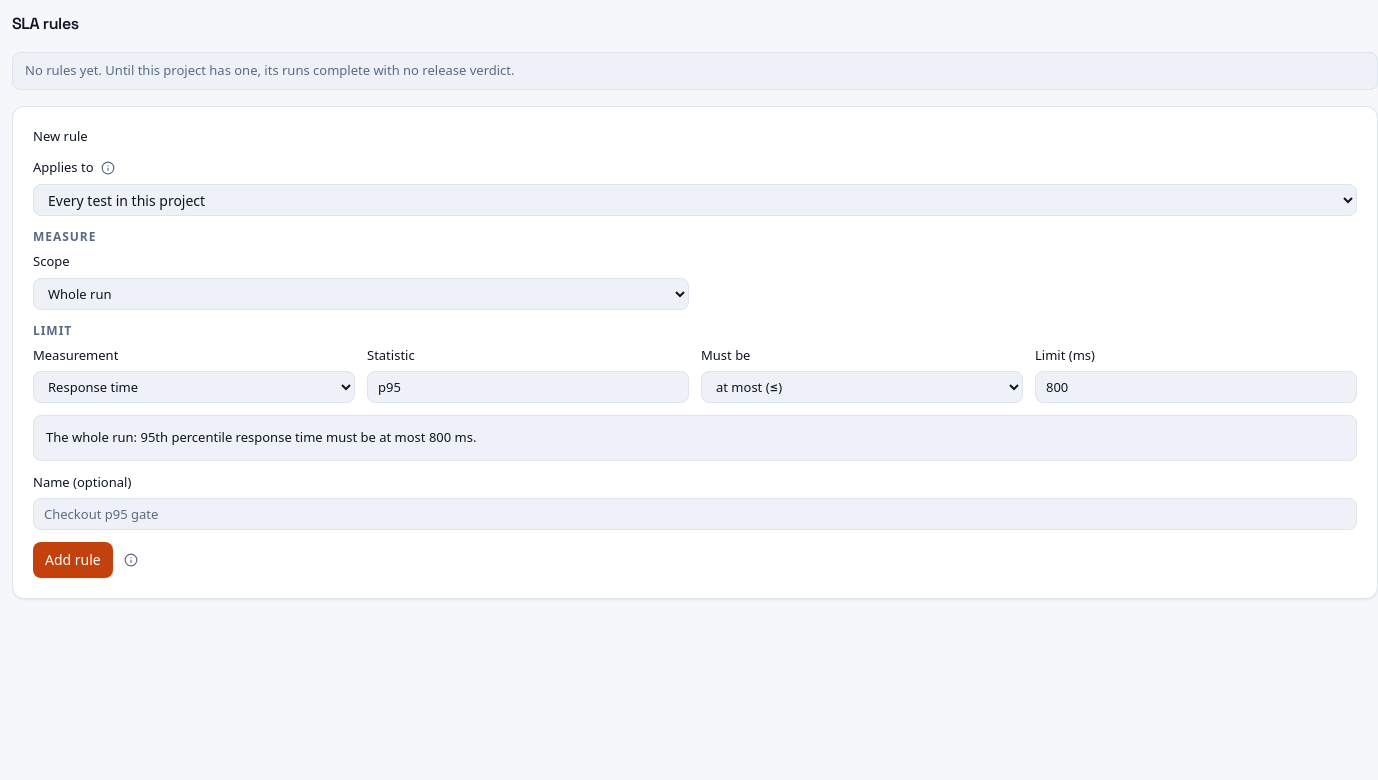
Test case: ProjectRules — authoring › refuses a blank threshold rather than reading it as zero
Clear the field labelled "Limit (ms)" at (1196, 387), box x1=1035 y1=371 x2=1357 y2=403
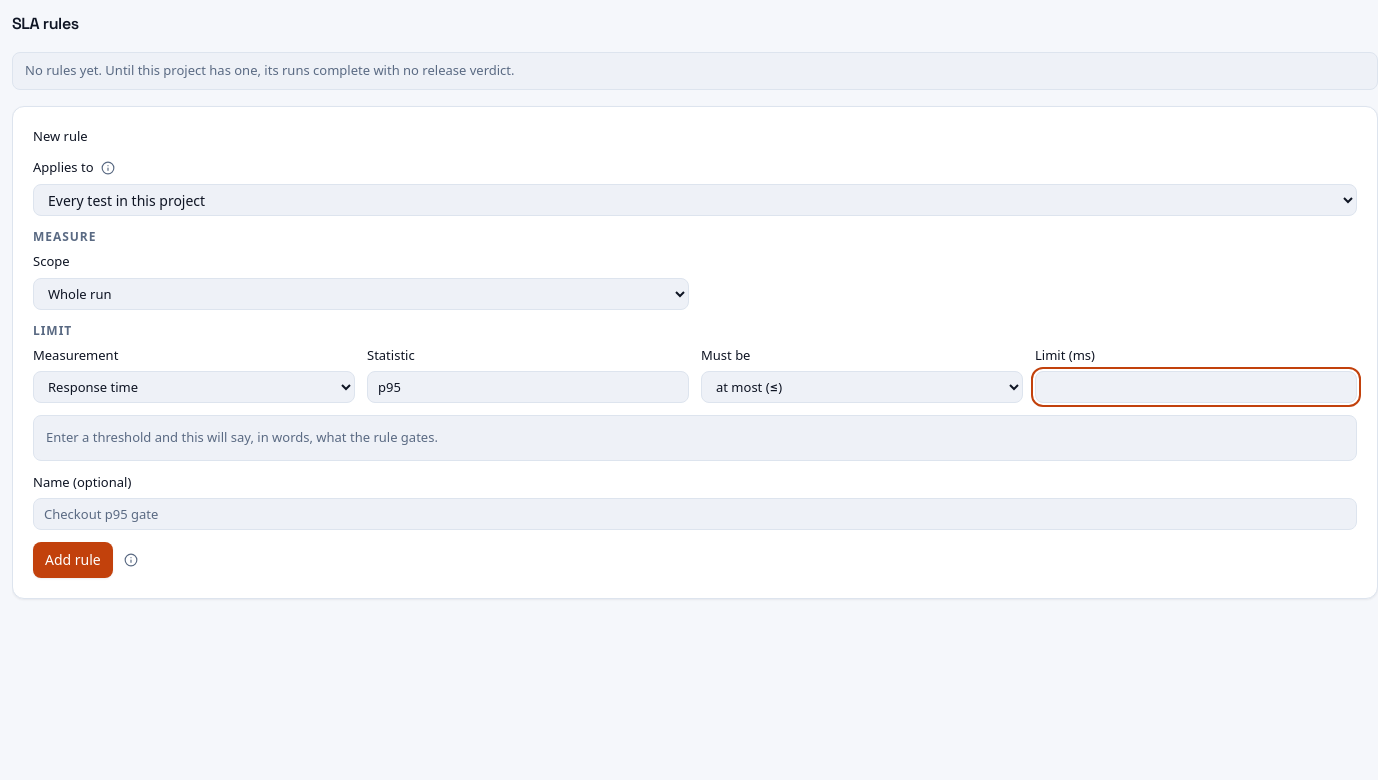
Click the button "Add rule".
click(73, 560)  # box x1=33 y1=542 x2=113 y2=578
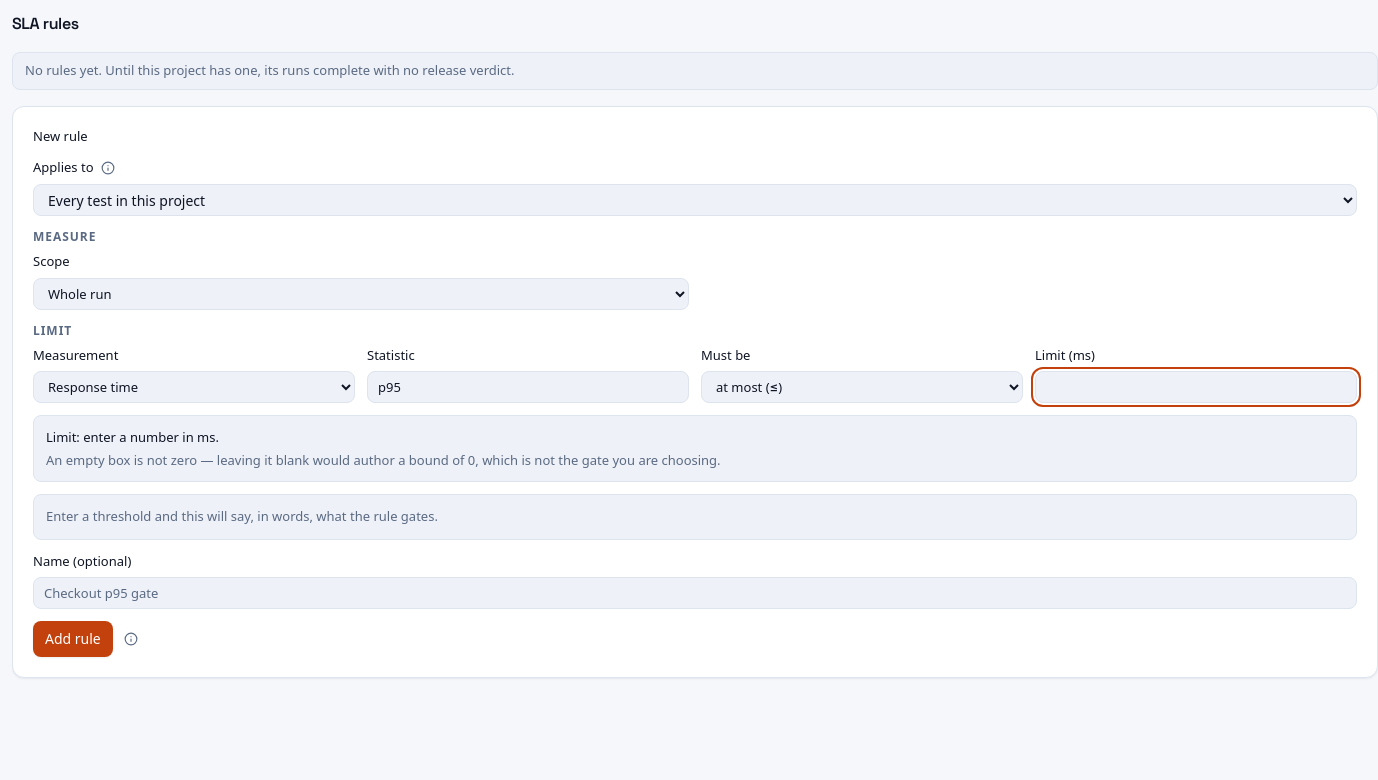
Check: the message is shown, box x1=33 y1=415 x2=1357 y2=482
